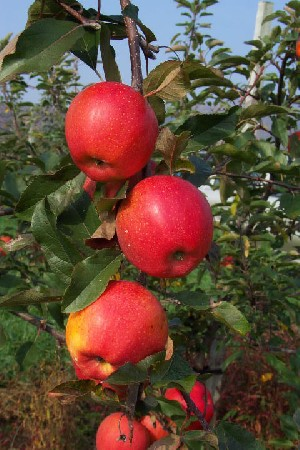apple: (61, 278, 170, 387), (113, 174, 216, 281), (62, 80, 159, 183)
